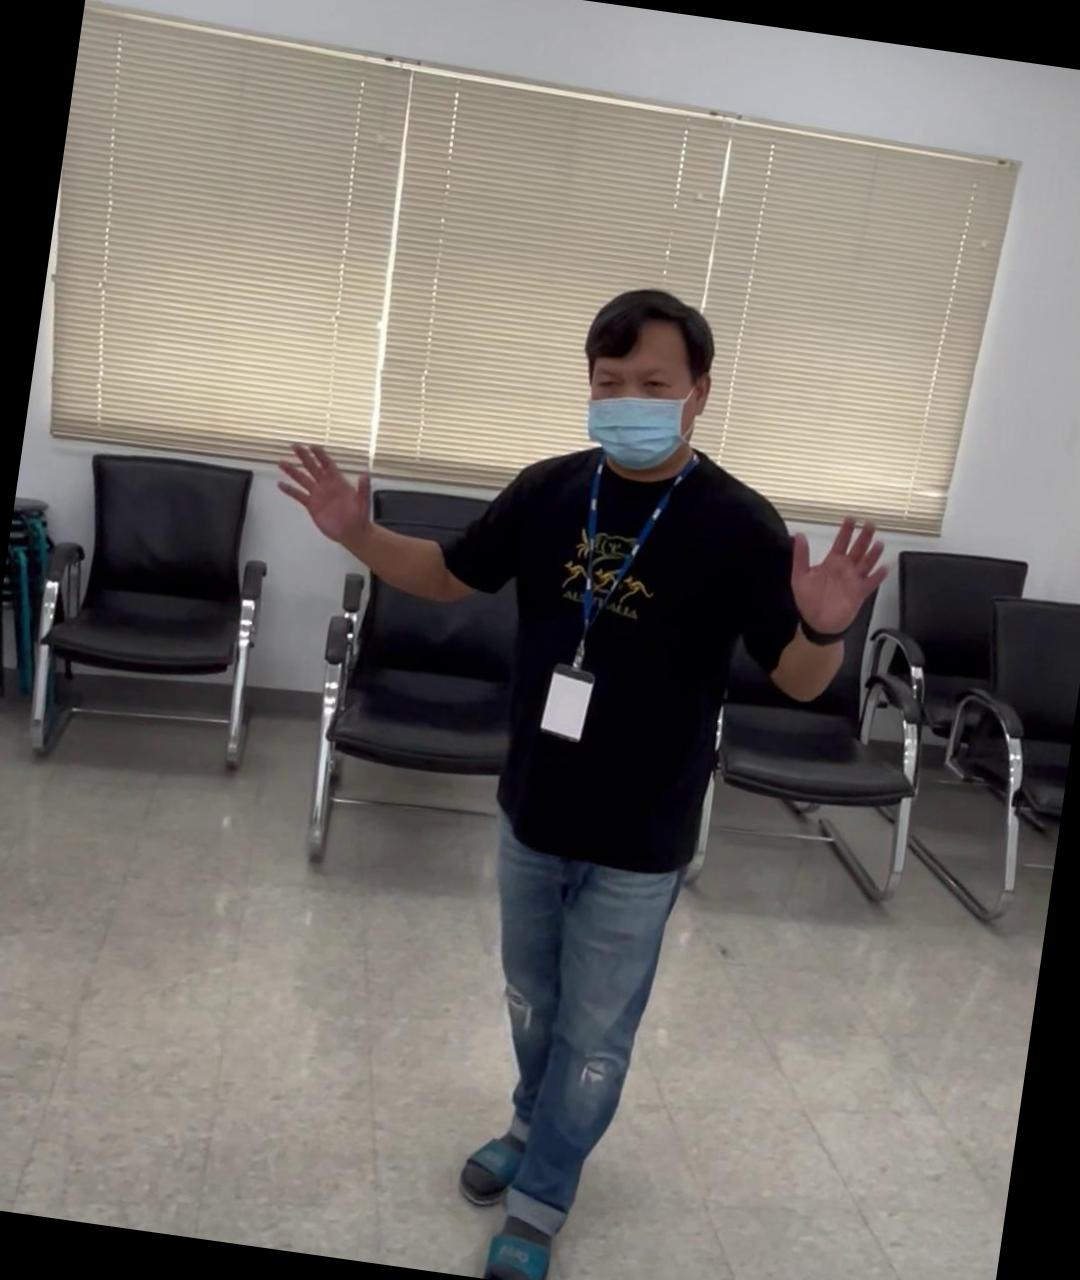No-gloves: (780, 500, 895, 638), (265, 430, 382, 553)
